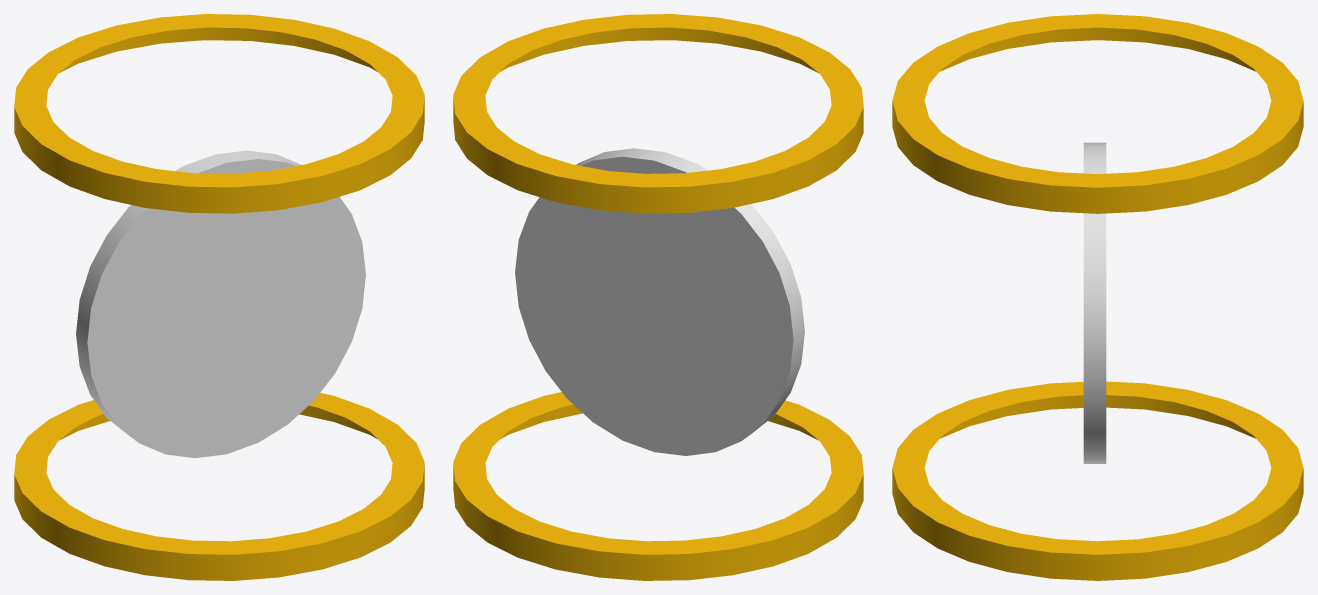
File: Accelerator2.FBX
3 views of the same model, side by side, from view 1: azimuth 30°, elevation 25°; view 2: azimuth 150°, elevation 25°; view 3: azimuth 270°, elevation 25° (orthographic).
Parts seen in each view (by area): view 1: Circle003, Circle002, Circle001; view 2: Circle003, Circle002, Circle001; view 3: Circle002, Circle001, Circle003.
Part boxes in pixels (bbox=[...]): Circle003: bbox=[76, 150, 365, 458]; Circle002: bbox=[14, 14, 424, 213]; Circle001: bbox=[14, 393, 424, 580]; Circle003: bbox=[515, 148, 804, 455]; Circle002: bbox=[453, 14, 863, 213]; Circle001: bbox=[453, 392, 863, 580]; Circle002: bbox=[892, 14, 1303, 213]; Circle001: bbox=[892, 381, 1303, 580]; Circle003: bbox=[1083, 142, 1106, 463].
Size of the model in its own units: 7.13 by 7.13 by 7.52.
